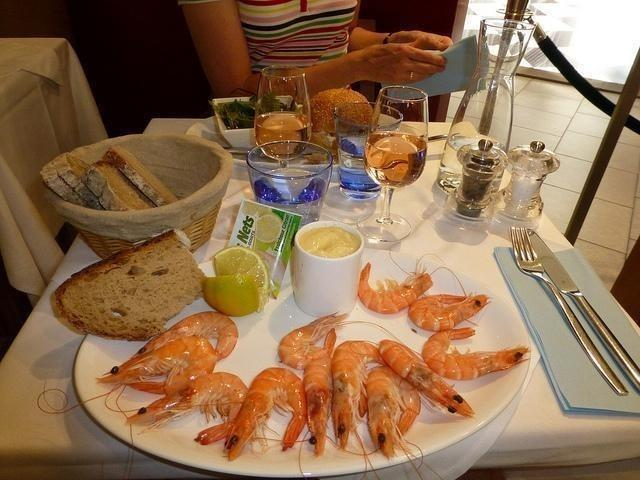cup-handle: (293, 220, 364, 319)
glass-normal: (333, 101, 402, 203), (244, 139, 332, 218), (253, 65, 313, 159)
glass-wine: (357, 86, 432, 243)
